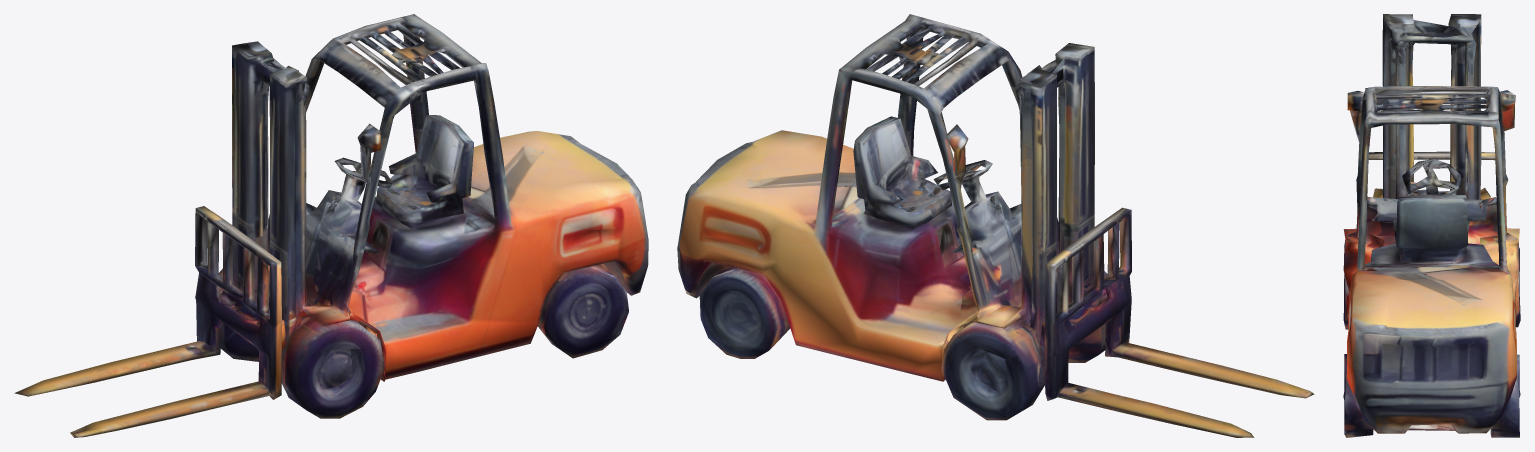
File: asset.glb
The picture shows the model from 3 angles, left to right: view 1: azimuth 30°, elevation 25°; view 2: azimuth 150°, elevation 25°; view 3: azimuth 270°, elevation 25°; orthographic projection. The views are drawn at different scales.
Parts seen in each view (by area): view 1: Mesh_0; view 2: Mesh_0; view 3: Mesh_0.
Part boxes in pixels (x1,y1,x2,y2): Mesh_0: (14, 14, 648, 437); Mesh_0: (677, 14, 1314, 437); Mesh_0: (1343, 14, 1520, 437).
Size of the model in its own units: 2.03 by 1.1 by 0.5947.
Materials: 1 (1 with a texture image).
